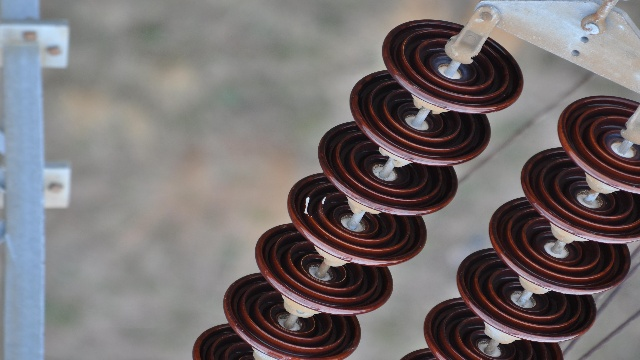insulator_unspecified: (191, 20, 639, 356)
